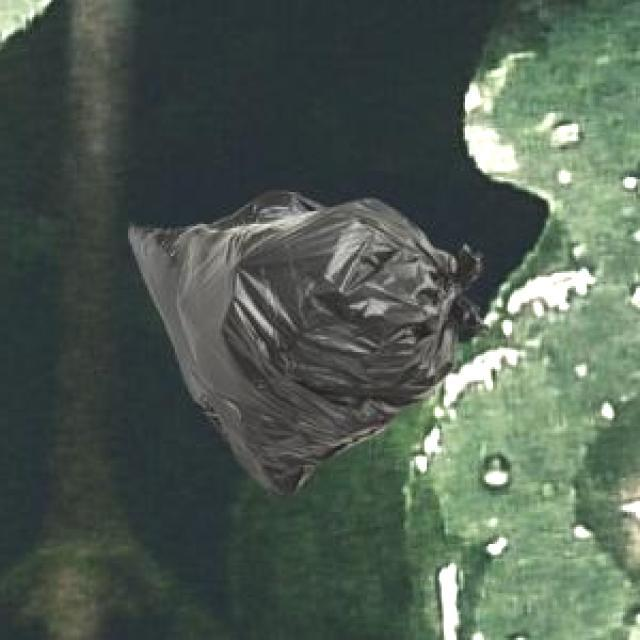Trashbag: (119, 185, 488, 500)
